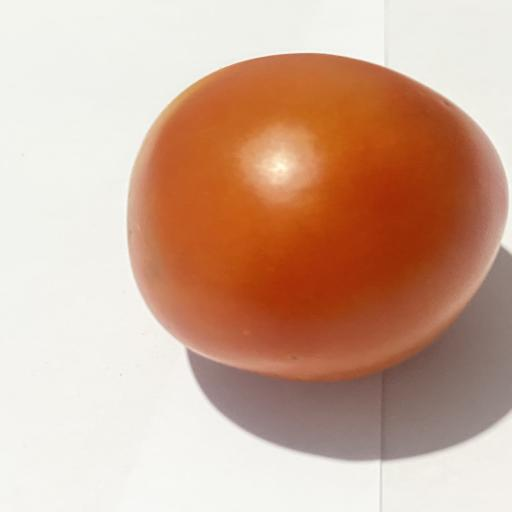ripe: (127, 53, 508, 380)
